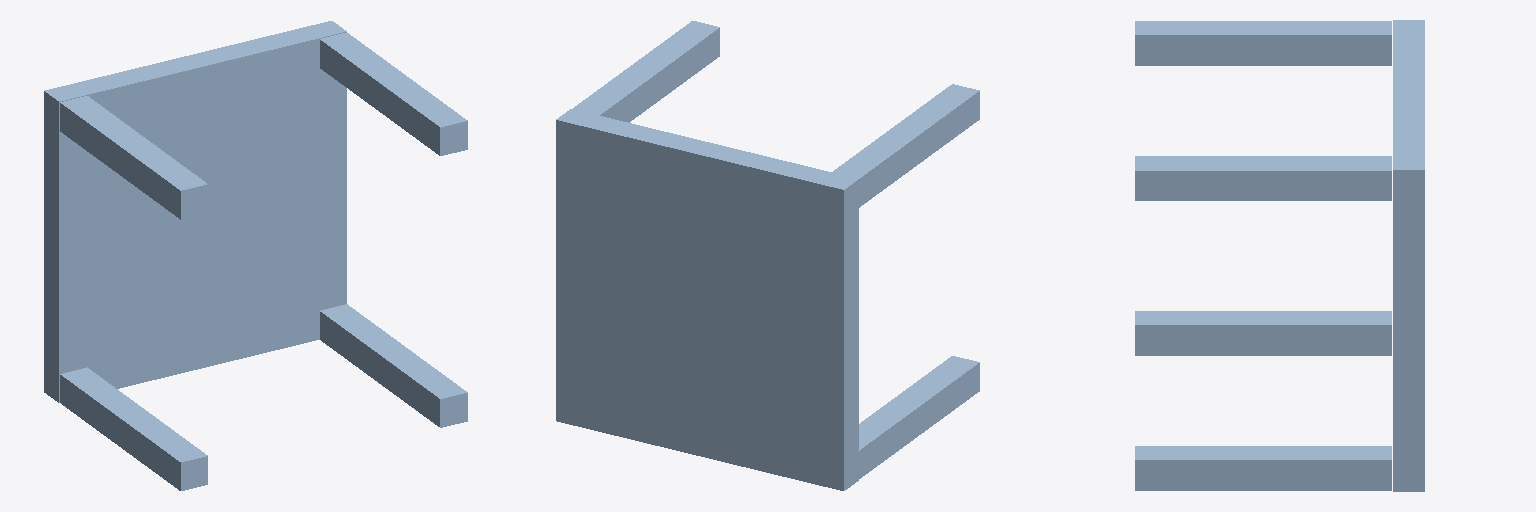
The robot description file, URDF, robot "squaretable_demo3_training":
<?xml version="1.0" ?>
<robot name="squaretable_demo3_training">
  <material name="squaretable_demo3_material">
    <color rgba="0.7 0.8 0.9 0.7"/>
  </material>
  <link name="squaretable_demo3_link">
    <!--
      Isolated Demo 3 training asset. Geometry matches objects_largetable.urdf.
      COM and inertia model the tabletop and four legs as five uniformly dense
      boxes scaled to a total mass of 20 kg. Runtime material is fixed by the
      environment to static/dynamic friction 0.5/0.5 and restitution 0.
    -->
    <inertial>
      <mass value="20.0"/>
      <origin rpy="0 0 0" xyz="0 -0.012413473401914 0"/>
      <inertia
        ixx="0.821972006993735"
        ixy="0"
        ixz="0"
        iyy="1.206183371508506"
        iyz="0"
        izz="0.821972006993735"
      />
    </inertial>

    <visual name="squaretable_demo3_tabletop">
      <origin rpy="0 0 0" xyz="0 0.036275 0"/>
      <geometry>
        <box size="0.5219528 0.04745 0.5219528"/>
      </geometry>
      <material name="squaretable_demo3_material"/>
    </visual>
    <collision name="squaretable_demo3_tabletop">
      <origin rpy="0 0 0" xyz="0 0.036275 0"/>
      <geometry>
        <box size="0.5219528 0.04745 0.5219528"/>
      </geometry>
    </collision>

    <visual name="squaretable_demo3_leg_neg_x_neg_z">
      <origin rpy="0 0 0" xyz="-0.23525 -0.17835 -0.23525"/>
      <geometry>
        <box size="0.05 0.3793 0.05"/>
      </geometry>
      <material name="squaretable_demo3_material"/>
    </visual>
    <collision name="squaretable_demo3_leg_neg_x_neg_z">
      <origin rpy="0 0 0" xyz="-0.23525 -0.17835 -0.23525"/>
      <geometry>
        <box size="0.05 0.3793 0.05"/>
      </geometry>
    </collision>

    <visual name="squaretable_demo3_leg_neg_x_pos_z">
      <origin rpy="0 0 0" xyz="-0.23525 -0.17835 0.23525"/>
      <geometry>
        <box size="0.05 0.3793 0.05"/>
      </geometry>
      <material name="squaretable_demo3_material"/>
    </visual>
    <collision name="squaretable_demo3_leg_neg_x_pos_z">
      <origin rpy="0 0 0" xyz="-0.23525 -0.17835 0.23525"/>
      <geometry>
        <box size="0.05 0.3793 0.05"/>
      </geometry>
    </collision>

    <visual name="squaretable_demo3_leg_pos_x_neg_z">
      <origin rpy="0 0 0" xyz="0.23525 -0.17835 -0.23525"/>
      <geometry>
        <box size="0.05 0.3793 0.05"/>
      </geometry>
      <material name="squaretable_demo3_material"/>
    </visual>
    <collision name="squaretable_demo3_leg_pos_x_neg_z">
      <origin rpy="0 0 0" xyz="0.23525 -0.17835 -0.23525"/>
      <geometry>
        <box size="0.05 0.3793 0.05"/>
      </geometry>
    </collision>

    <visual name="squaretable_demo3_leg_pos_x_pos_z">
      <origin rpy="0 0 0" xyz="0.23525 -0.17835 0.23525"/>
      <geometry>
        <box size="0.05 0.3793 0.05"/>
      </geometry>
      <material name="squaretable_demo3_material"/>
    </visual>
    <collision name="squaretable_demo3_leg_pos_x_pos_z">
      <origin rpy="0 0 0" xyz="0.23525 -0.17835 0.23525"/>
      <geometry>
        <box size="0.05 0.3793 0.05"/>
      </geometry>
    </collision>
  </link>
</robot>

--- What the picture shows (computed from the rendered views, not written in the file) ---
The picture shows the robot from 3 angles, left to right: view 1: azimuth 30°, elevation 25°; view 2: azimuth 150°, elevation 25°; view 3: azimuth 270°, elevation 25°; orthographic projection.
Model squaretable_demo3_training with 1 links and 0 joints (none), rooted at squaretable_demo3_link, posed every joint at zero.
Visible links, largest first — view 1: squaretable_demo3_link; view 2: squaretable_demo3_link; view 3: squaretable_demo3_link.
Boxes of the visible links, left/top/right/bottom form: squaretable_demo3_link: left=44, top=21, right=467, bottom=490; squaretable_demo3_link: left=556, top=21, right=979, bottom=490; squaretable_demo3_link: left=1135, top=20, right=1424, bottom=491.
Size in the robot's own frame: 0.522 by 0.428 by 0.522 metres.
Geometry: primitives only (box / cylinder / sphere), no mesh files.
